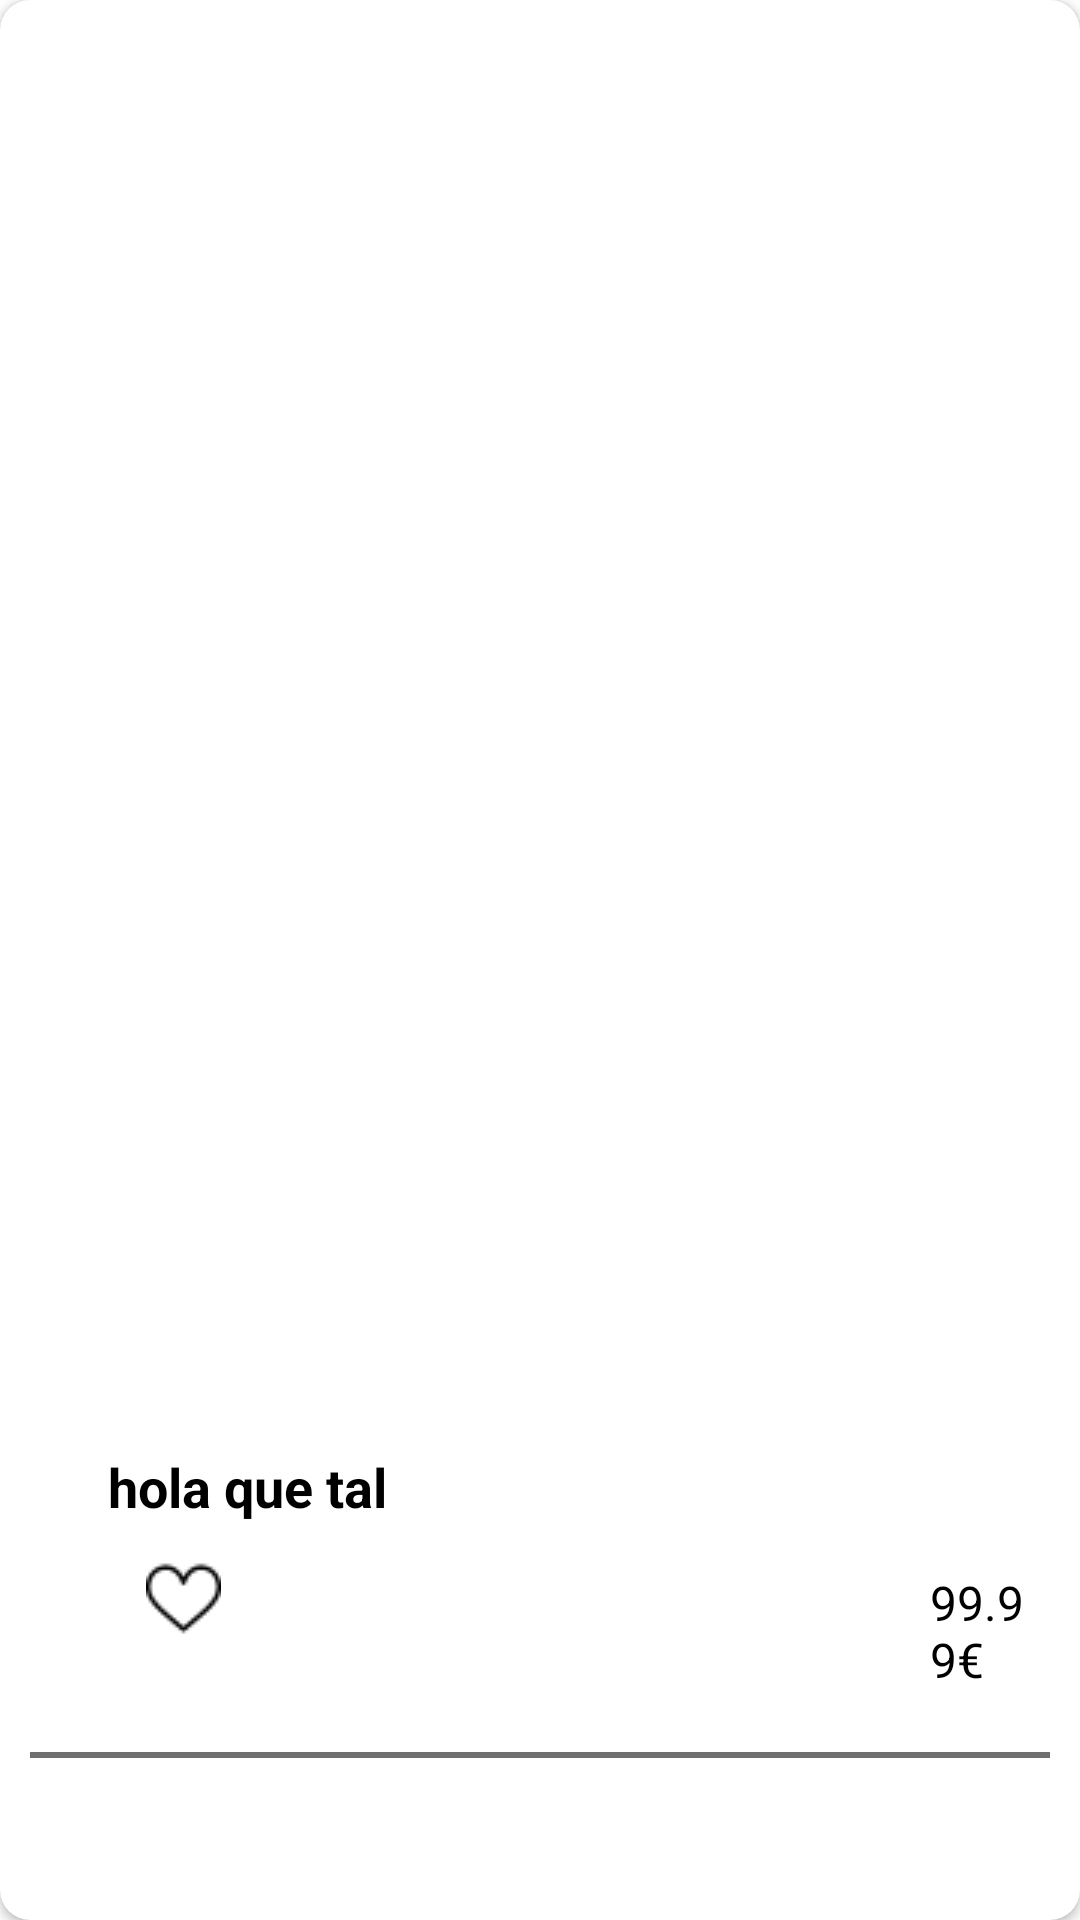

Icon bounding boxes for this 1080 x 1920 phone screenshot, format detection(x1, y1, x2, y2):
me gusta: detection(146, 1563, 221, 1634)
